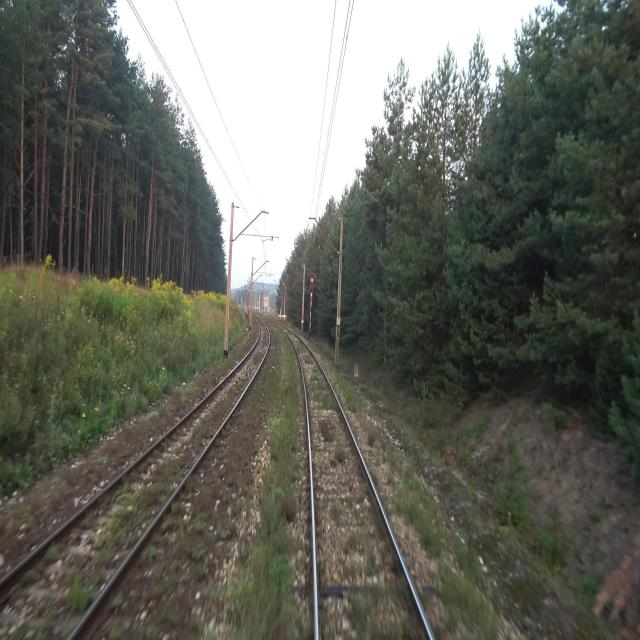rail-track: (288, 332, 430, 639)
